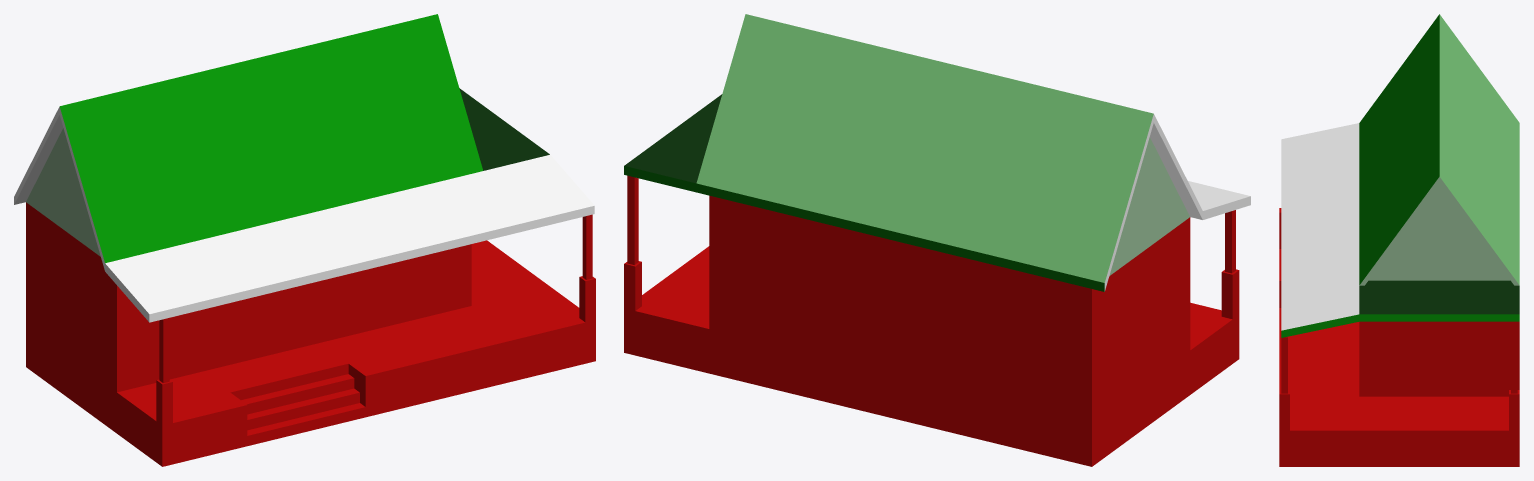
File: villa.obj
3 views of the same model, side by side, from view 1: azimuth 30°, elevation 25°; view 2: azimuth 150°, elevation 25°; view 3: azimuth 270°, elevation 25° (orthographic). The views are drawn at different scales.
Visible parts, largest first — view 1: Mesh1 roof1 Model, Mesh2 house1 Model; view 2: Mesh2 house1 Model, Mesh1 roof1 Model; view 3: Mesh1 roof1 Model, Mesh2 house1 Model.
Boxes of the visible parts, left/top/right/bottom form: Mesh1 roof1 Model: left=14, top=14, right=594, bottom=322; Mesh2 house1 Model: left=26, top=202, right=595, bottom=466; Mesh2 house1 Model: left=624, top=175, right=1239, bottom=466; Mesh1 roof1 Model: left=624, top=14, right=1250, bottom=291; Mesh1 roof1 Model: left=1281, top=14, right=1519, bottom=337; Mesh2 house1 Model: left=1279, top=208, right=1519, bottom=466.
Size of the model in its own units: 11.3 by 7.2 by 6.
